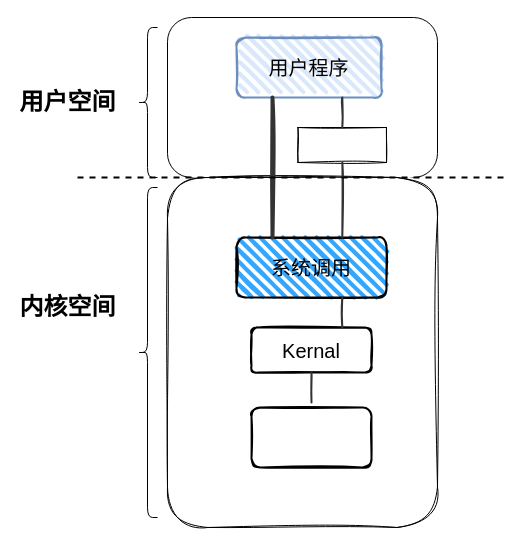
The diagram is 526 pixels wide and 545 high, and some of its shapes have lost their labels. The shapes that lost their labels are listed below. From the top down, each one's centre as x and y in pixels, then its label:
At (x=341, y=144): "C库 glic".
At (x=311, y=437): "架构依赖内核代码".
